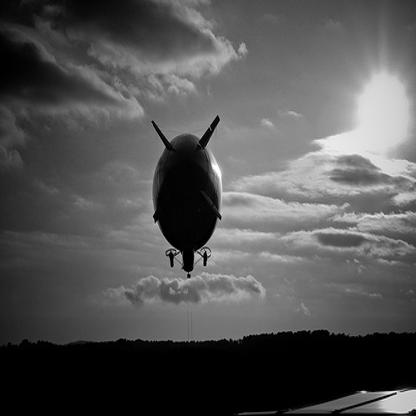Airship: (143, 113, 232, 280)
